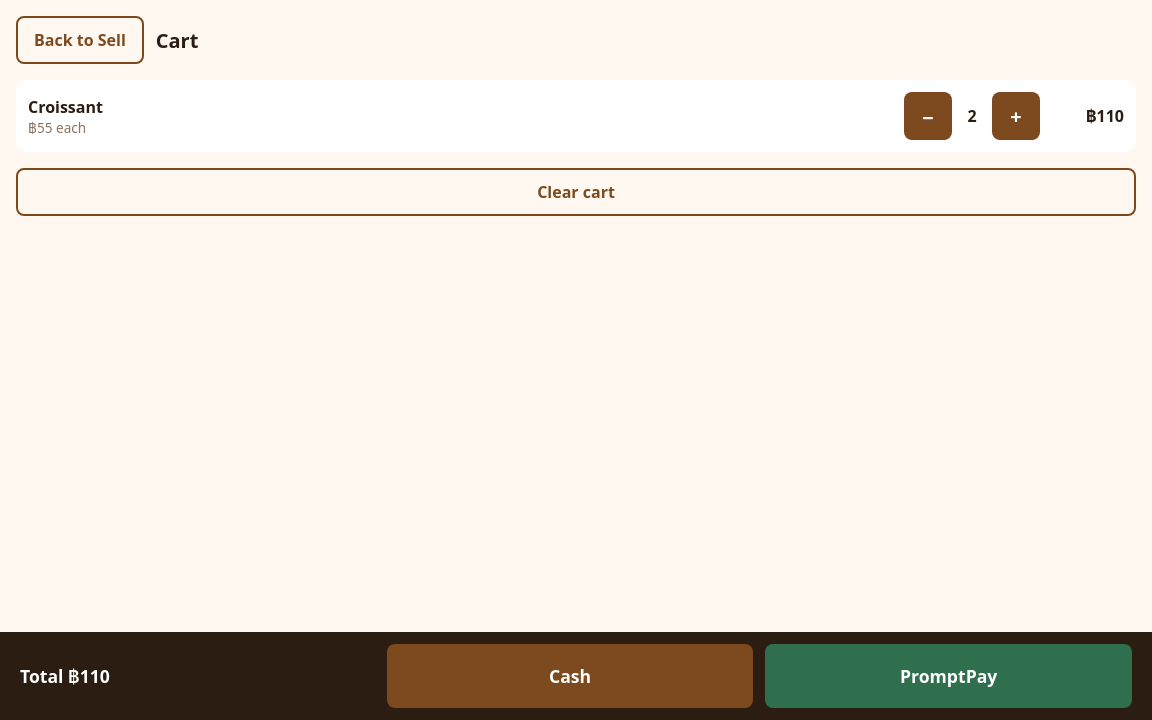
Test: CartScreen › (a) + and - update the total, and stepping to 0 removes the line and shows the empty state with Cash/PromptPay/Clear disabled
What coordinates should you click on to do the following:
click the button named "Add one Croissant"
I would click on:
 (1016, 116)
Its box is [992,92,1040,140].
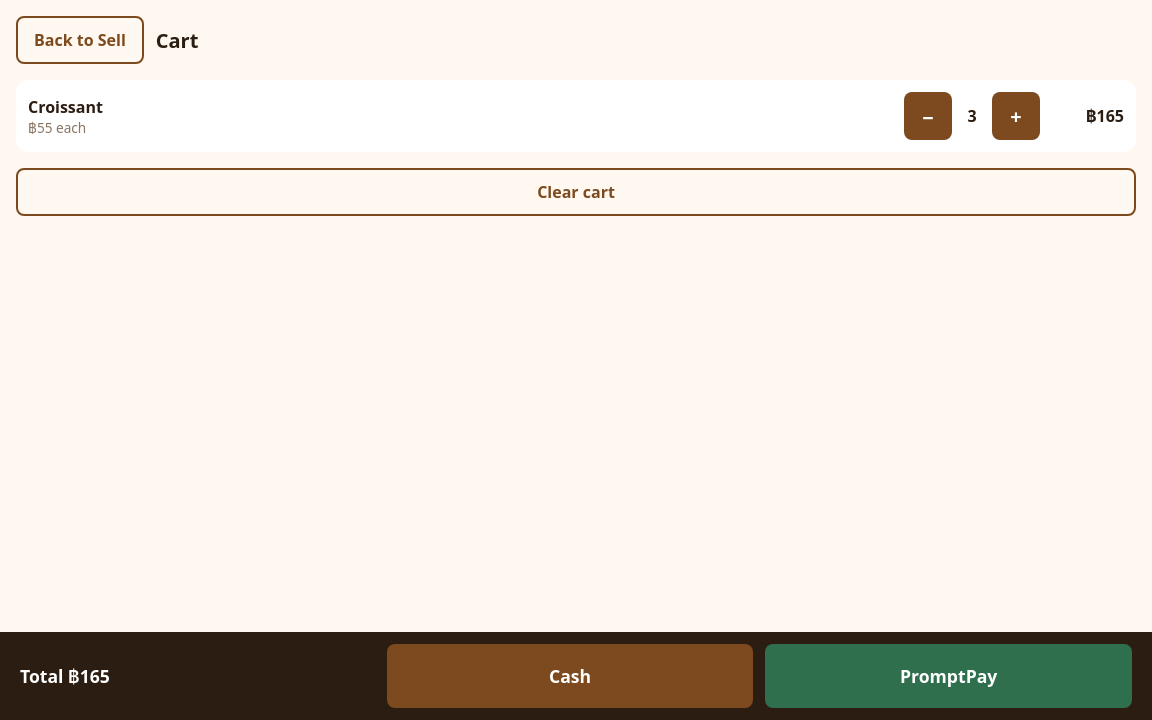
Check: the text with class "cart-bottom-bar-total" reads "Total ฿165", box [20,664,110,688]
What coordinates should you click on to do the following:
click the button named "Remove one Croissant"
I would click on:
 (928, 116)
Its box is [904,92,952,140].
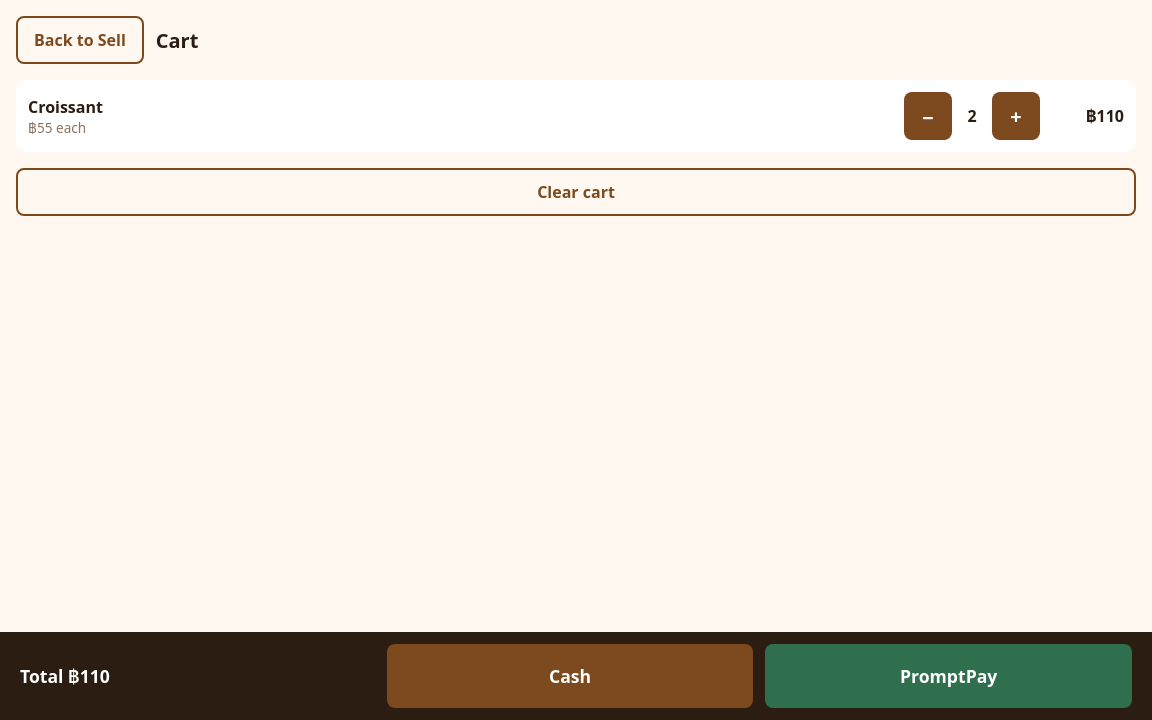
What coordinates should you click on to do the following:
click the button named "Remove one Croissant"
I would click on:
 (928, 116)
Its box is [904,92,952,140].
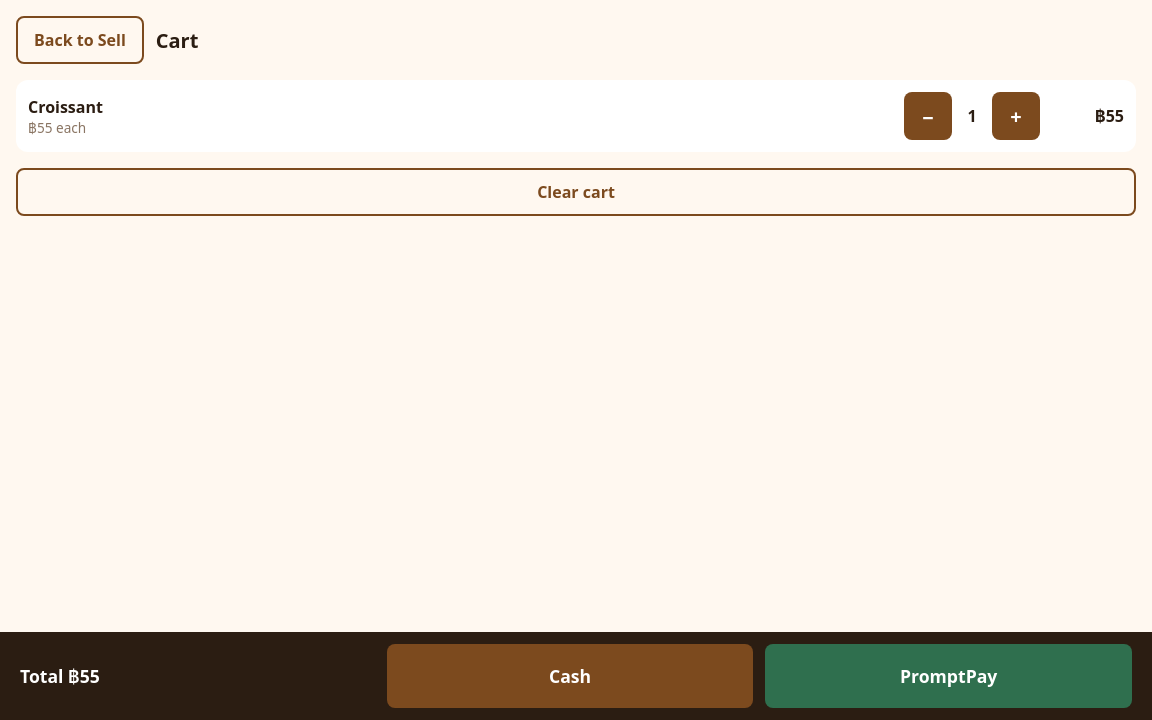
Check: the text with class "cart-bottom-bar-total" reads "Total ฿55", box [20,664,100,688]
What coordinates should you click on to do the following:
click the button named "Remove one Croissant"
I would click on:
 (928, 116)
Its box is [904,92,952,140].
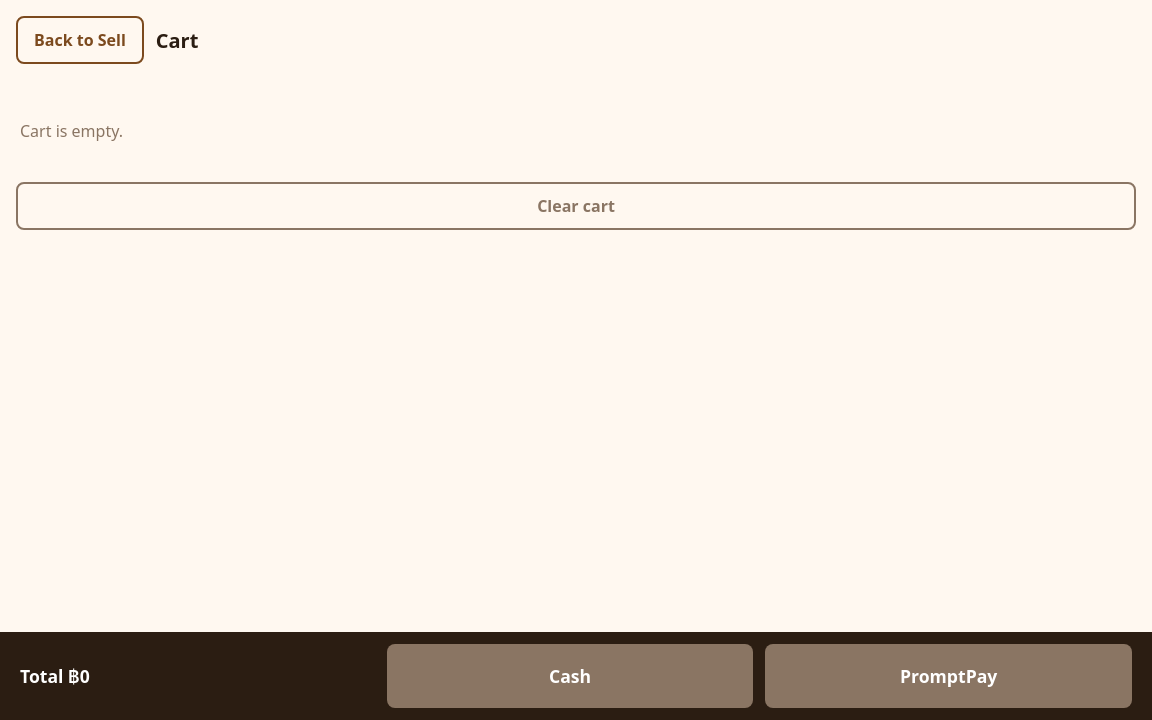
Check: the text with class "cart-bottom-bar-total" reads "Total ฿0", box [20,664,90,688]
Check: the text "Cart is empty." is shown, box [20,120,123,142]
Check: the button "Cash" is disabled, box [387,644,753,708]
